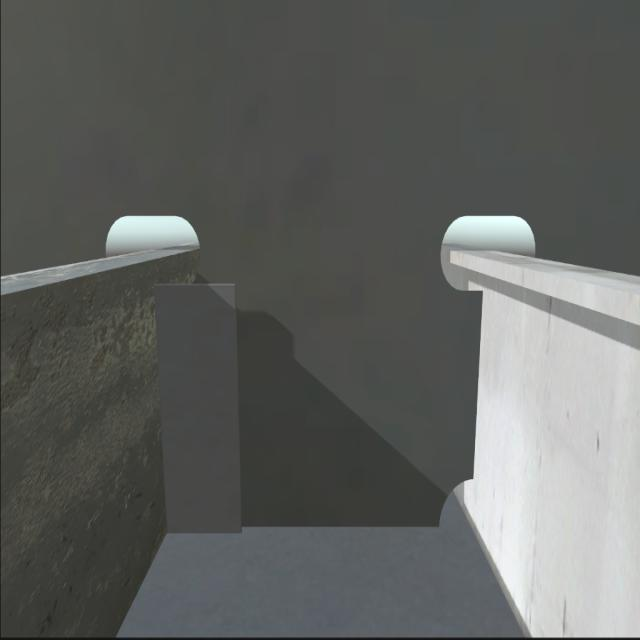fillet_hole: (436, 476, 478, 527)
fillet_yong_jeop_jang: (167, 514, 445, 540)
longi_yong_jeop_jang: (153, 274, 172, 535), (468, 282, 490, 484)
plate_CP01: (156, 280, 240, 534)
